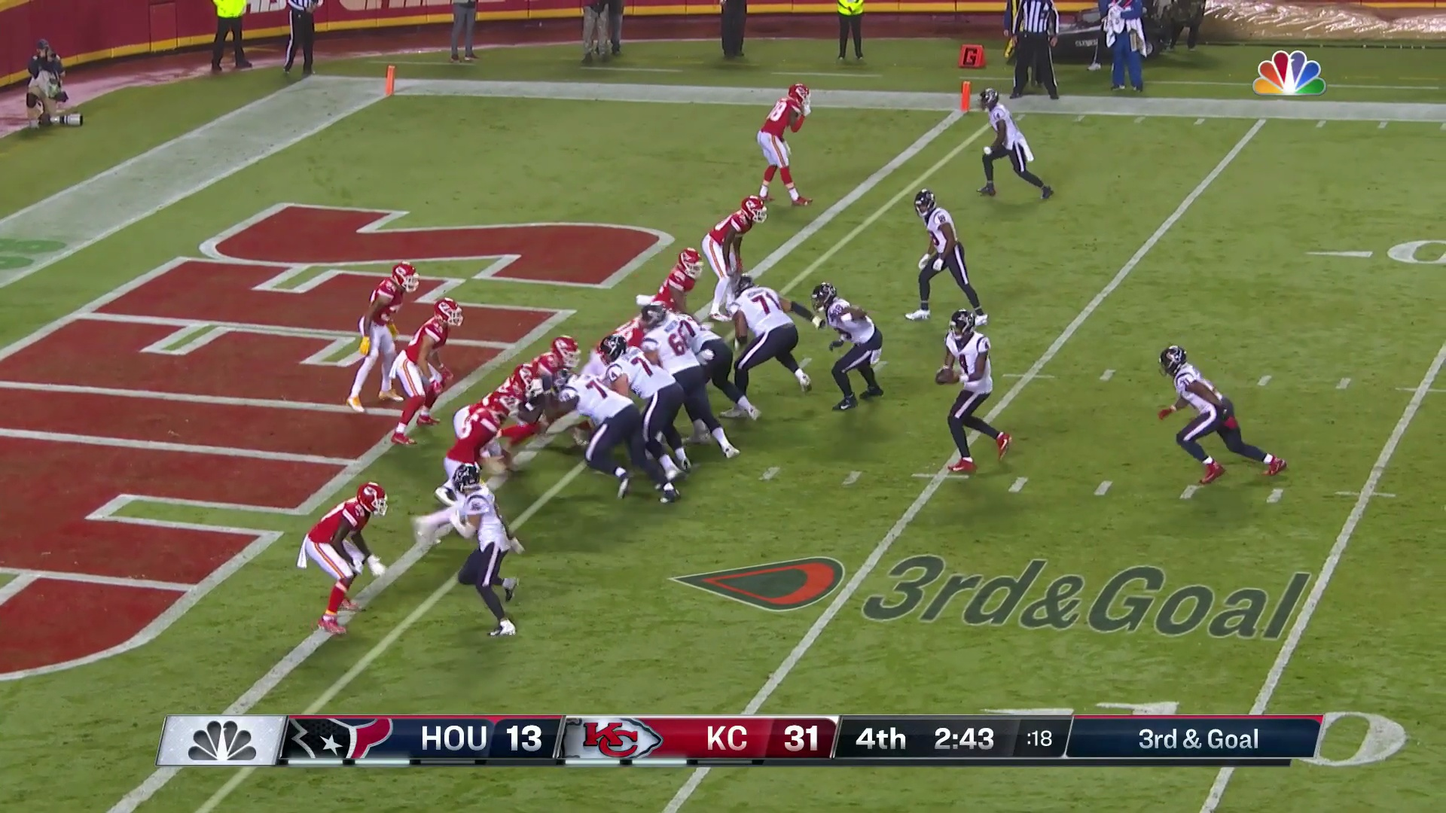Player: (611, 333, 682, 491), (642, 308, 718, 440), (392, 297, 461, 442), (444, 373, 528, 491), (813, 282, 883, 409), (703, 191, 765, 320), (584, 334, 652, 451), (731, 284, 797, 399), (497, 352, 560, 457), (757, 83, 811, 204), (574, 374, 639, 473), (430, 457, 503, 542), (524, 337, 577, 431), (542, 372, 589, 446)
